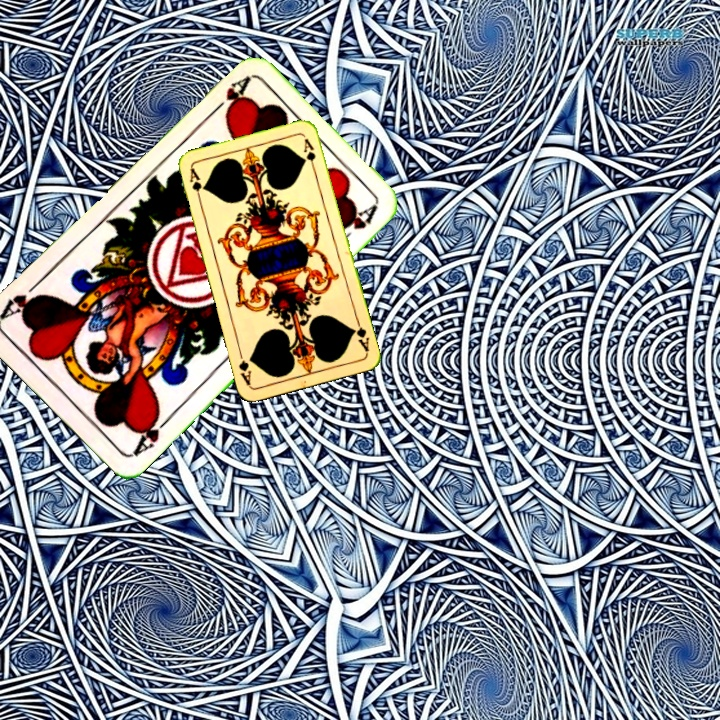GA: (348, 315, 372, 354), (185, 164, 205, 205)
HA: (129, 407, 176, 458), (204, 73, 252, 120)
